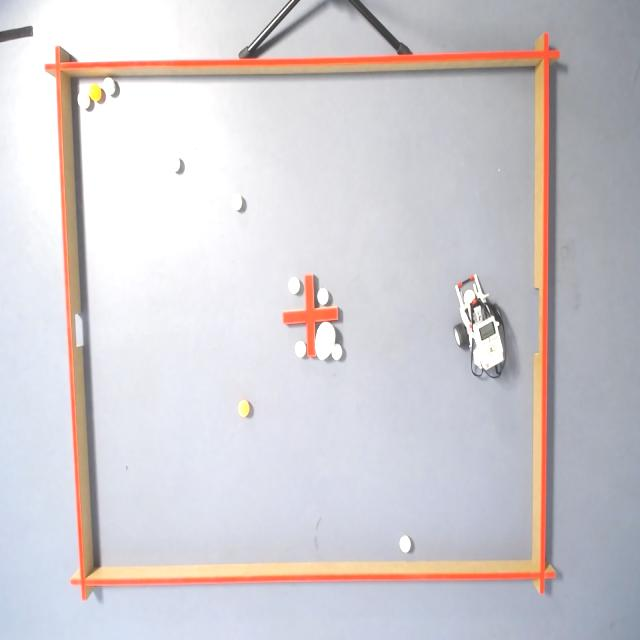boundaries: (42, 46, 97, 603), (68, 550, 560, 605), (43, 30, 564, 81), (532, 29, 562, 598)
cross: (282, 272, 338, 357)
egg: (315, 322, 336, 361)
large_goal: (523, 265, 560, 368)
orange_ball: (89, 84, 102, 101), (238, 399, 250, 417)
robot: (453, 274, 508, 380)
small_goal: (58, 296, 97, 366)
white_ball: (463, 288, 477, 308), (103, 76, 116, 96), (77, 90, 90, 110), (230, 192, 243, 212), (399, 534, 412, 554), (168, 154, 181, 173), (317, 288, 330, 306), (288, 276, 300, 294), (295, 340, 307, 358), (331, 343, 343, 360)
